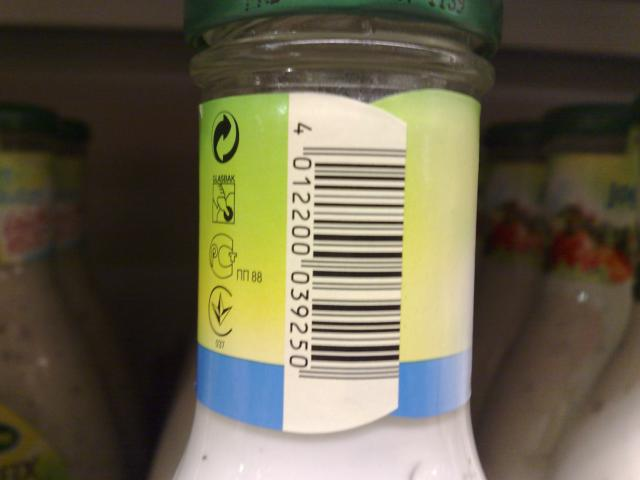Barkod: (310, 143, 404, 380)
